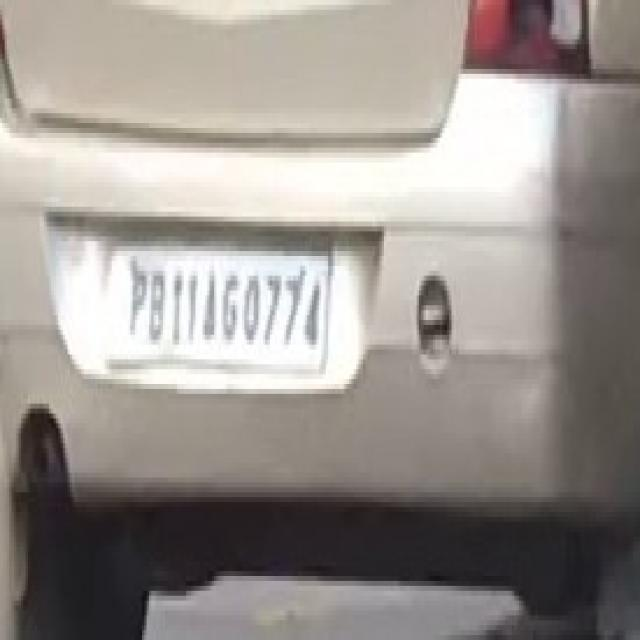Plate: (104, 242, 329, 370)
